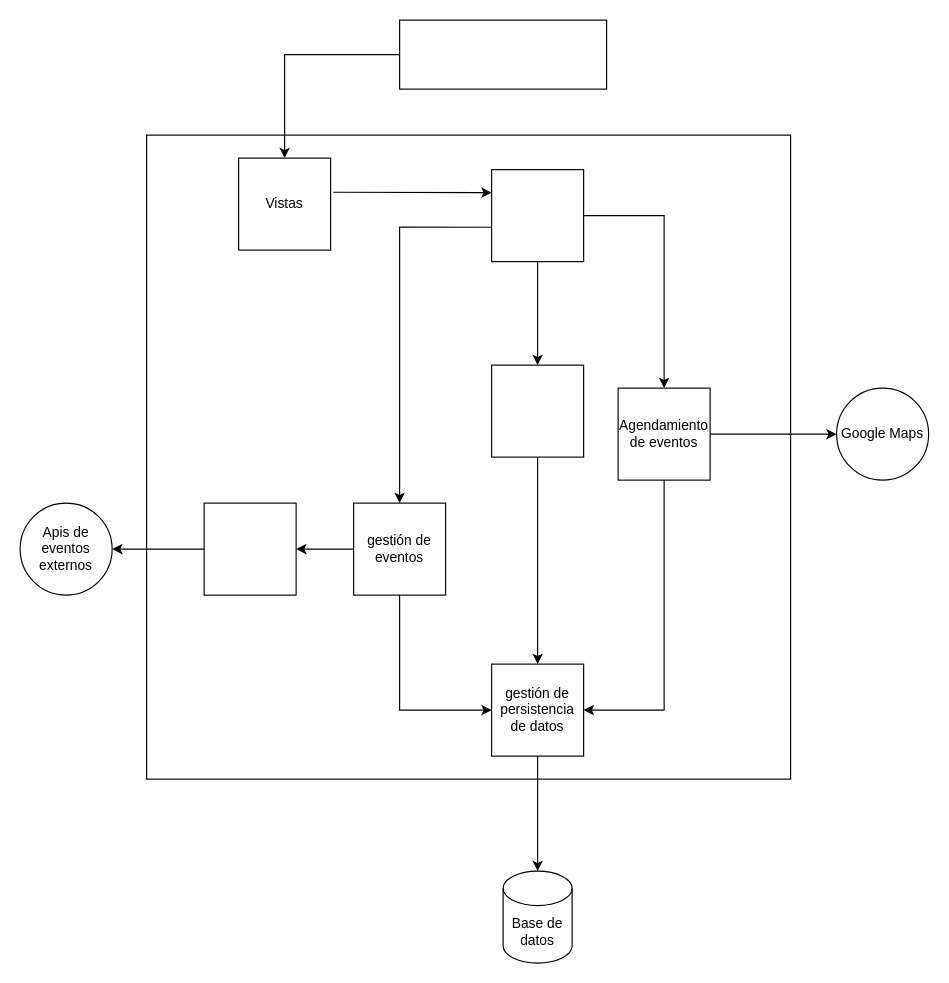
This 949x983 diagram has some shape labels left out. Each missing label, with the centre of its shape:
API gateway: point 537,215
gestión de usuarios: point 537,410
Integración de eventos externos: point 249,548
Usuario: point 502,54
